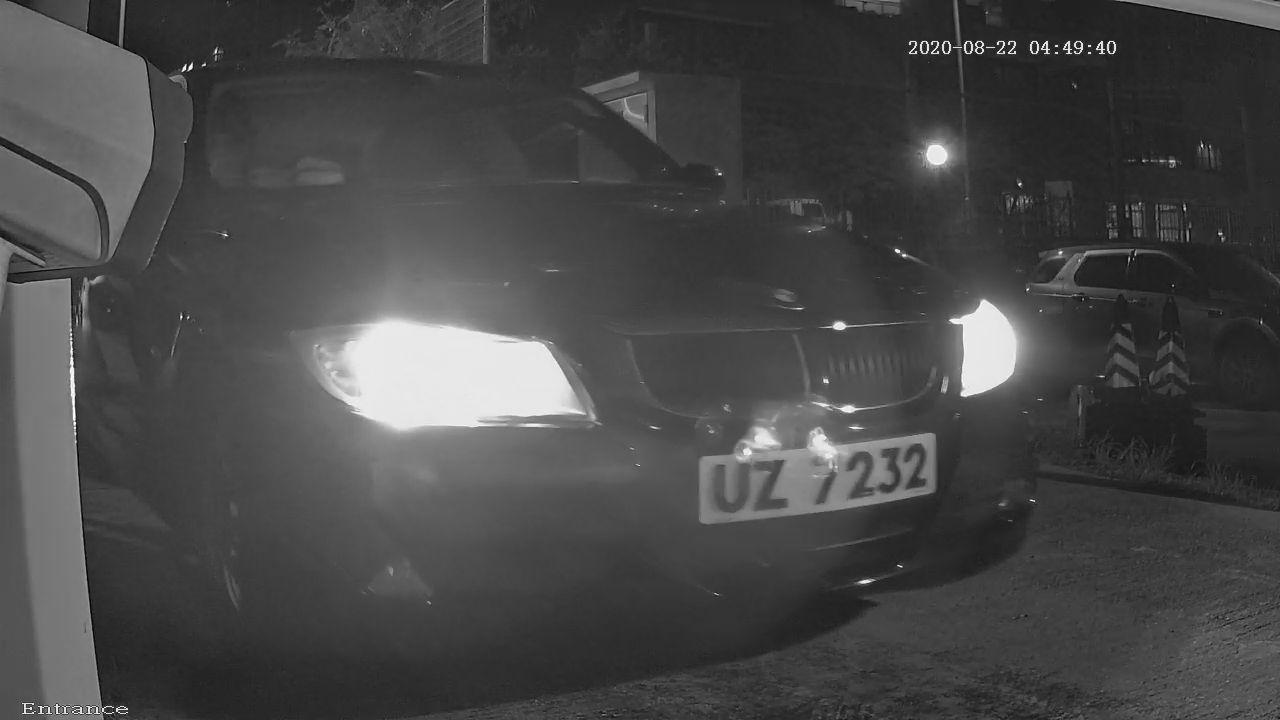Car: (18, 26, 1149, 666)
License Plate: (666, 401, 966, 587)
